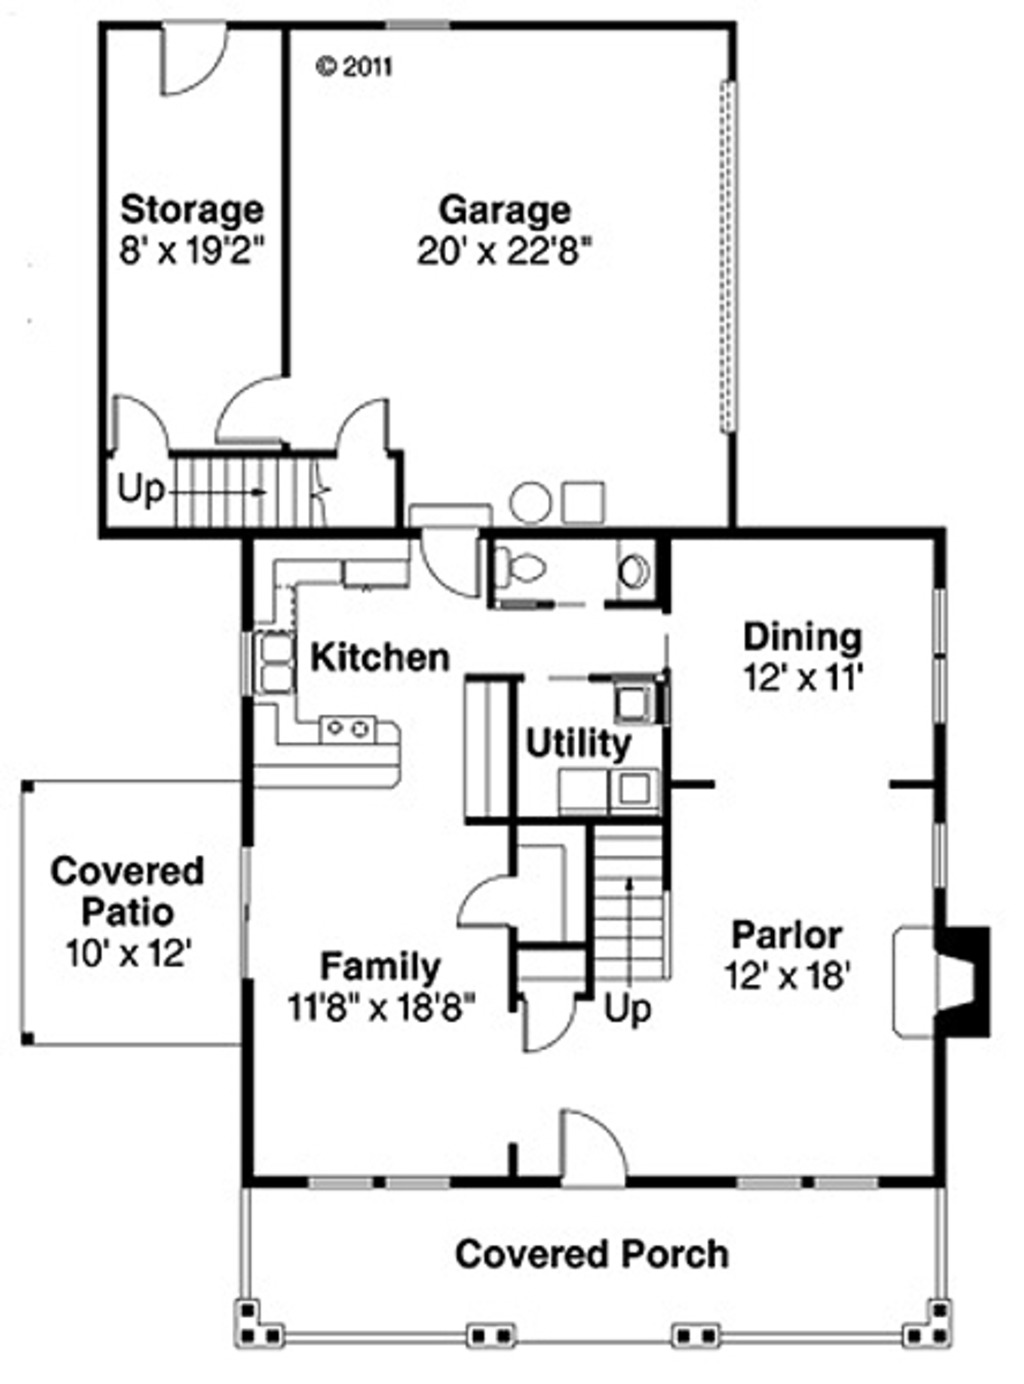door: (542, 1089, 655, 1198), (395, 485, 490, 604), (202, 347, 300, 453), (493, 955, 593, 1057), (138, 10, 248, 100), (440, 851, 540, 938), (89, 374, 183, 459), (308, 387, 400, 457)
large_sink: (480, 525, 555, 593)
small_sink: (614, 525, 666, 610)
stairs: (108, 444, 406, 530), (583, 819, 691, 993)
twin_sink: (221, 610, 314, 704)
